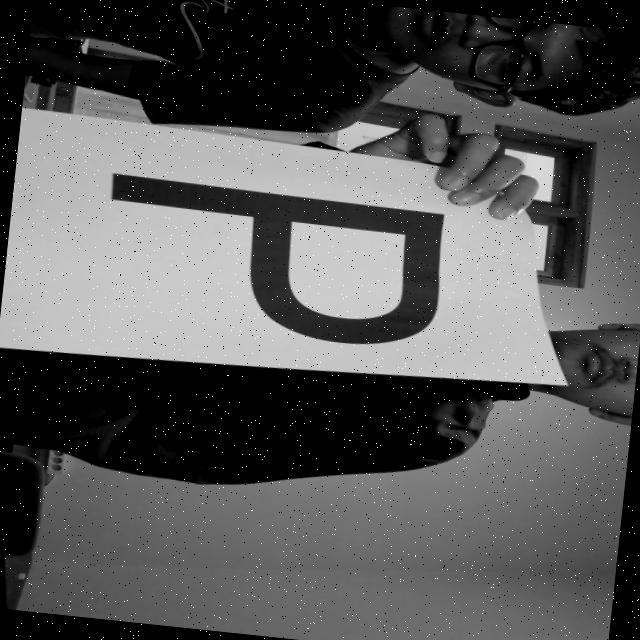p: (83, 150, 460, 370)
